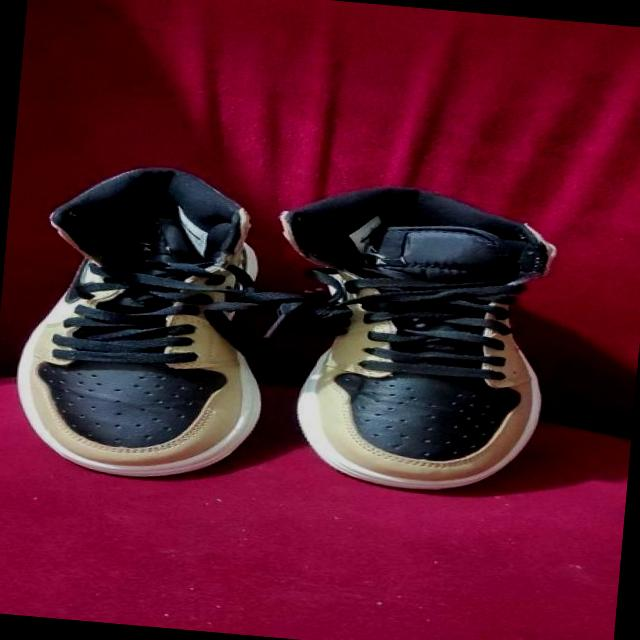nike_fake_jordan: (258, 175, 566, 502), (0, 154, 287, 489)
